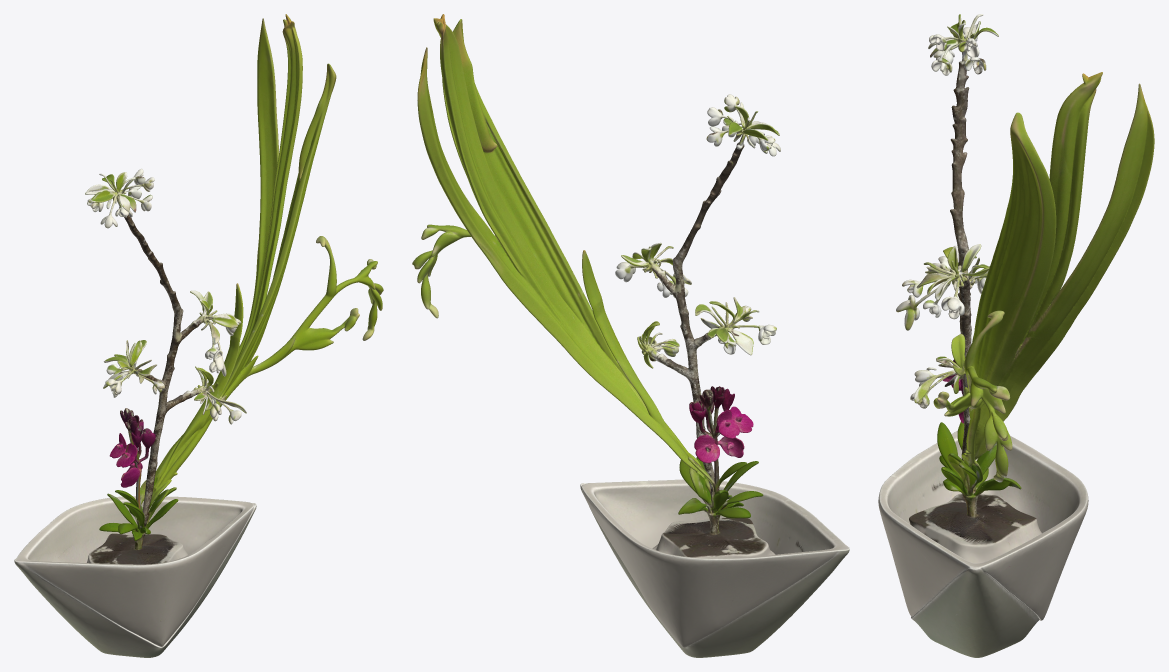
File: modello.glb
3 renders of one model, left to right at view 1: azimuth 30°, elevation 25°; view 2: azimuth 150°, elevation 25°; view 3: azimuth 270°, elevation 25°, orthographic. The views are drawn at different scales.
Size of the model in its own units: 1.38 by 1.9 by 0.6914.
Materials: 1 (1 with a texture image).
